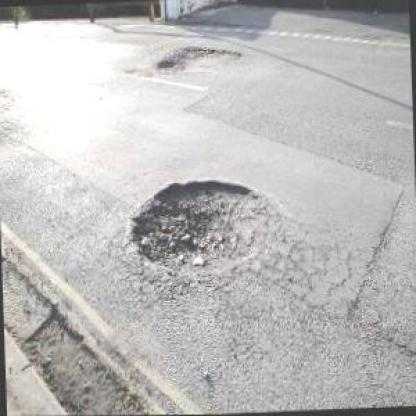pothole: (20, 300, 156, 414), (129, 173, 277, 274), (154, 40, 248, 78)
